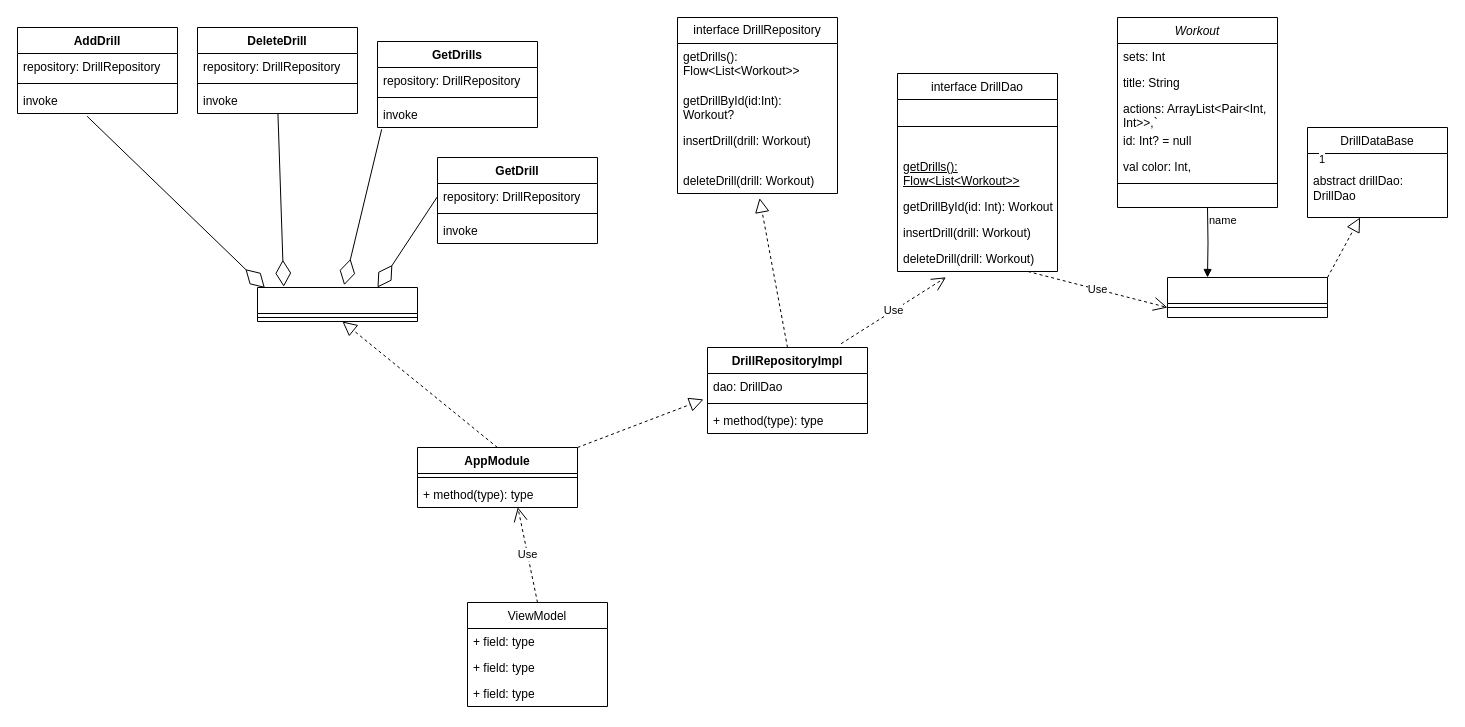
The diagram is 1465 pixels wide and 727 high, and some of its shapes have lost their labels. Each missing label, with the centre of its shape:
"data class UseCases" belongs at point (337, 304).
"DataBase" belongs at point (1247, 297).
